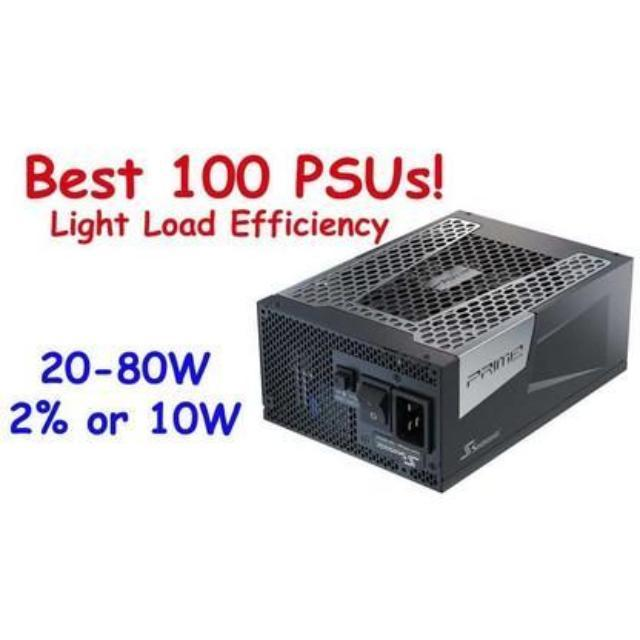PSU: (235, 202, 640, 490)
